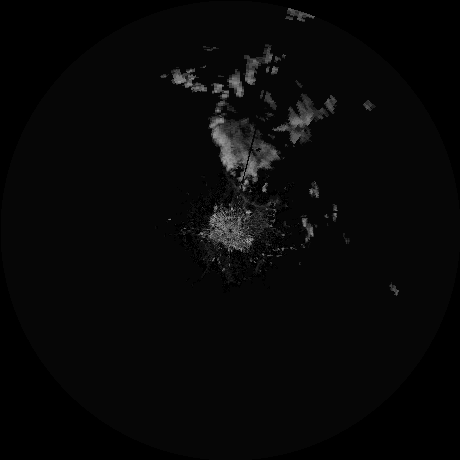frontgust: (233, 183, 271, 209)
